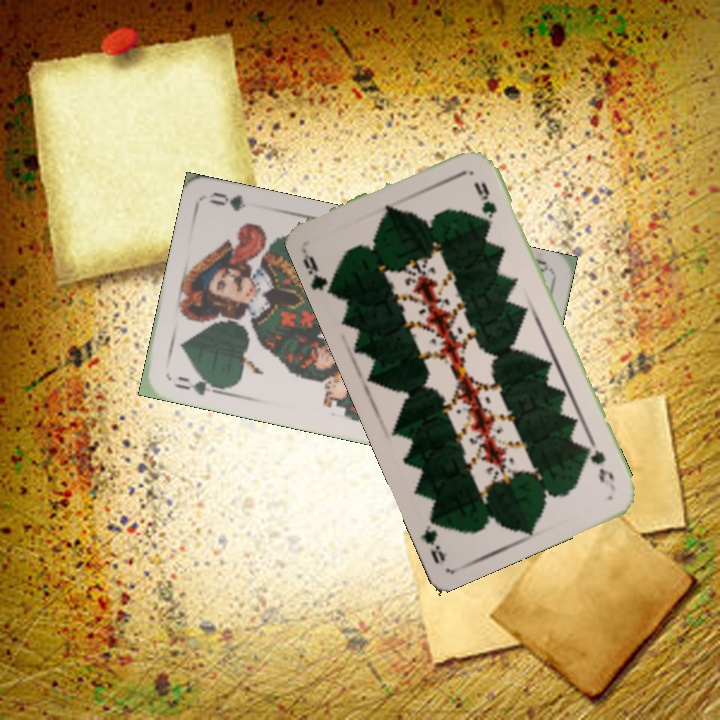G9: (298, 245, 336, 297), (581, 436, 617, 486)
GO: (169, 371, 225, 398)
